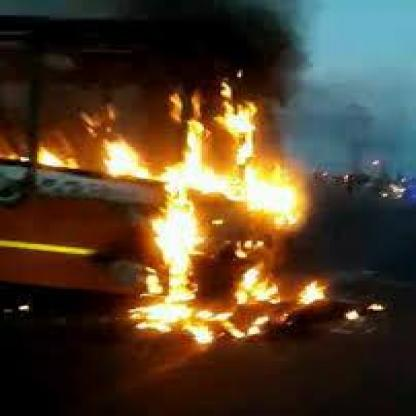fire: (1, 71, 386, 344)
smoke: (61, 0, 325, 87)
